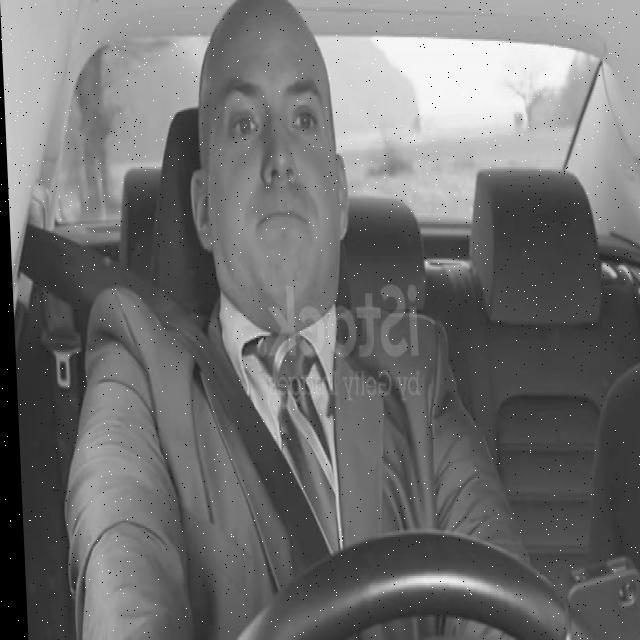PhoneCall: (555, 547, 640, 640)
